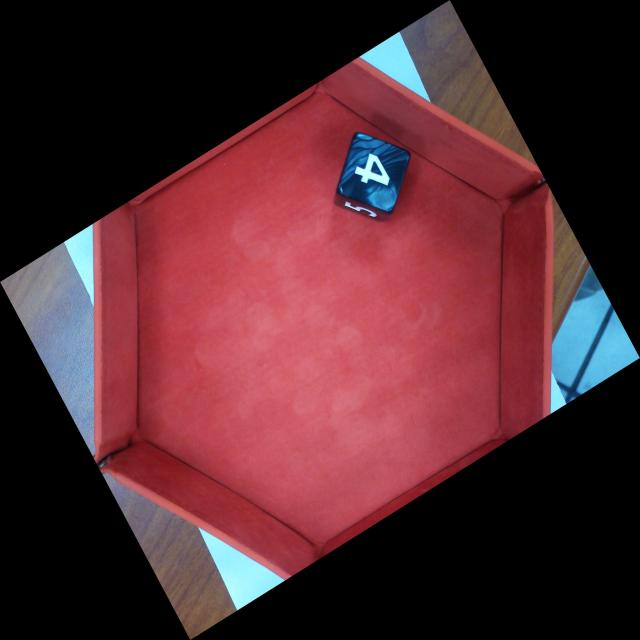dice: (336, 132, 414, 215)
